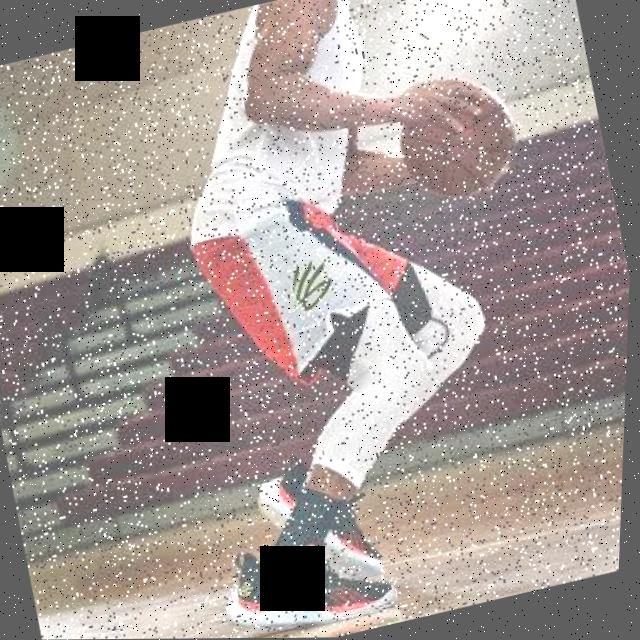shoe: (217, 515, 408, 639), (252, 442, 392, 599)
